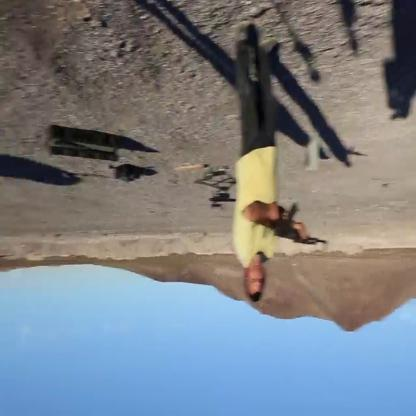long weapon: (254, 206, 328, 254)
